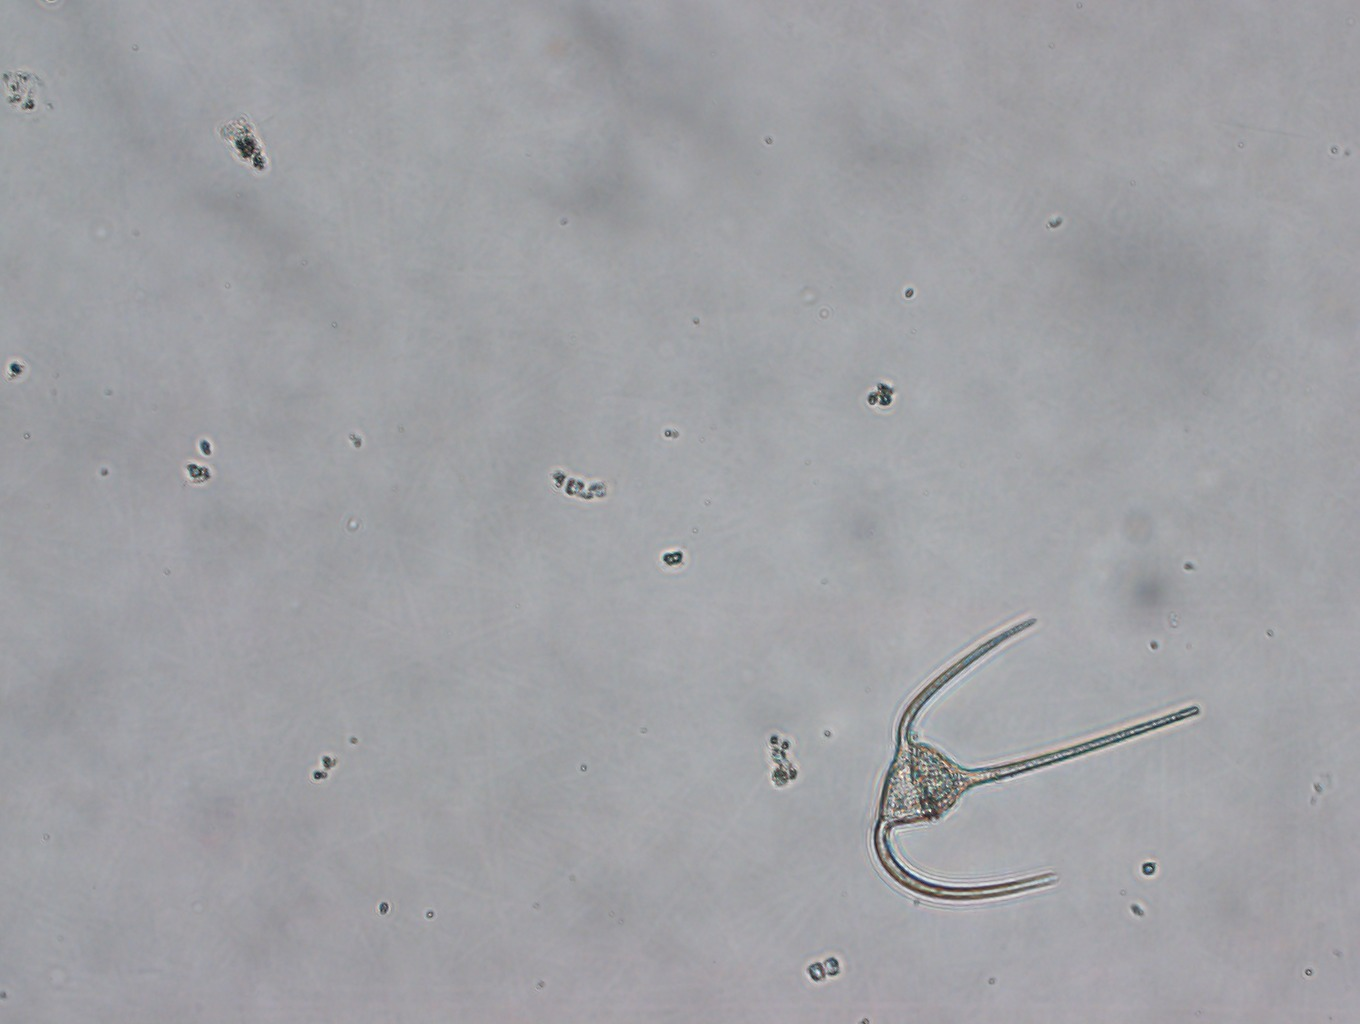ceratium trichoceros: (871, 614, 1202, 905)
